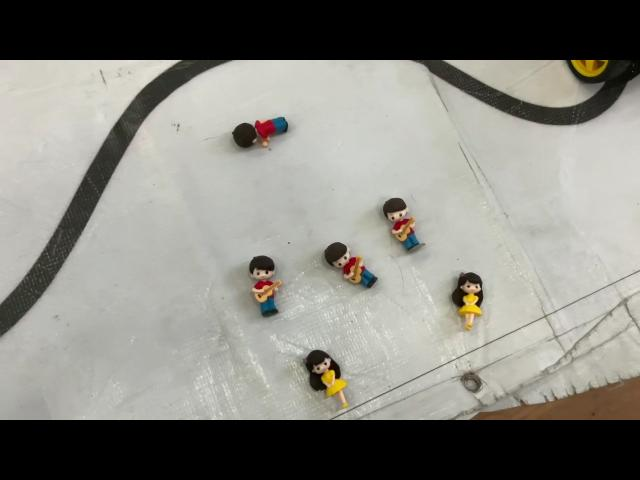man: (316, 238, 384, 292), (375, 190, 429, 254), (244, 248, 286, 322), (233, 114, 291, 152)
woman: (304, 344, 354, 410), (451, 267, 485, 337)
